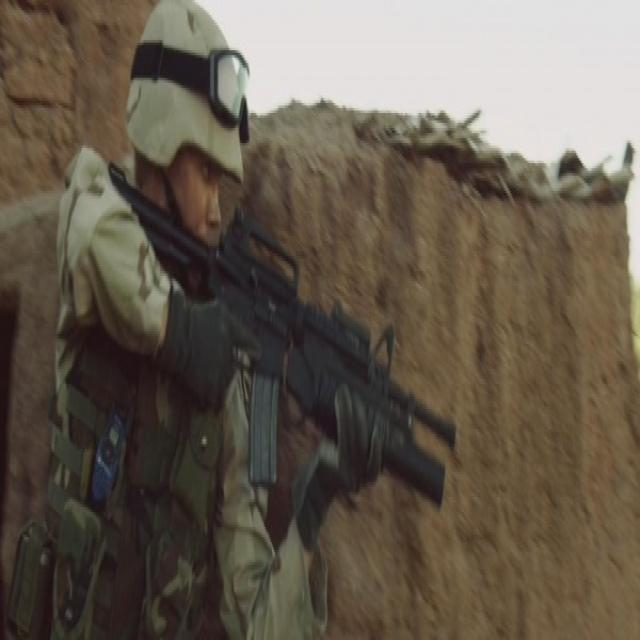rifle: (104, 153, 461, 516)
